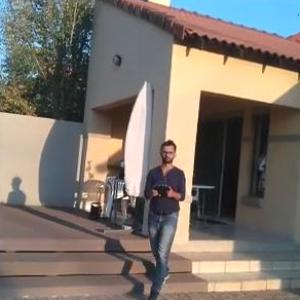follow: (138, 136, 189, 299)
